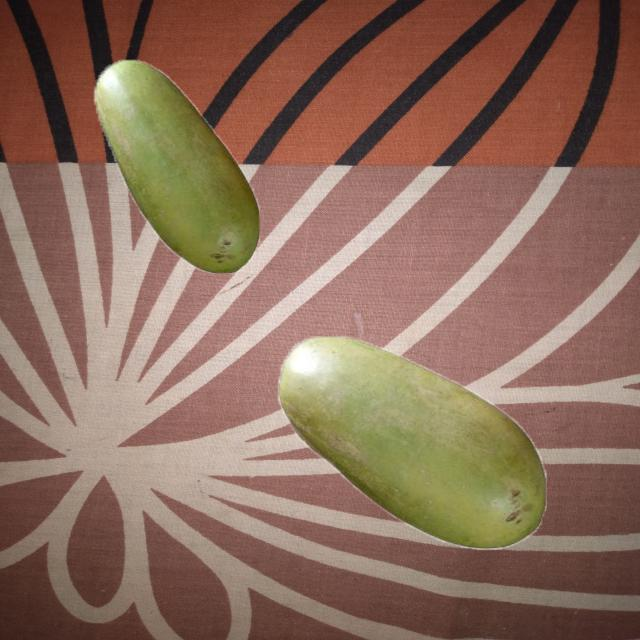Pepaya unrippen: (268, 332, 554, 549), (85, 54, 269, 282)
